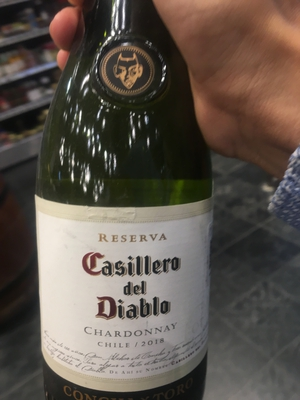casillero del diablo chardonnay: (31, 40, 210, 400)
